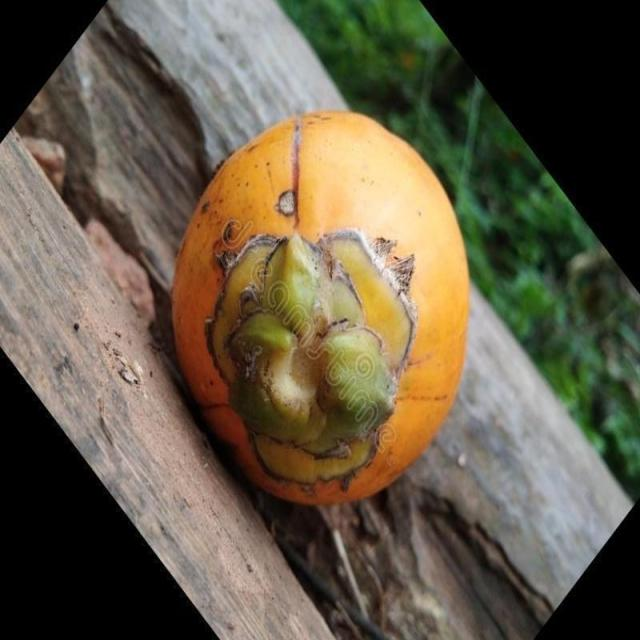good: (169, 110, 471, 510)
